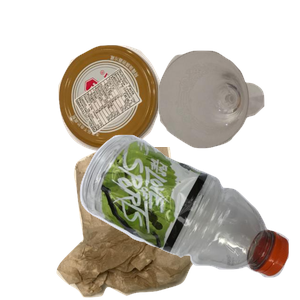glass: (156, 48, 300, 189)
metal: (56, 43, 211, 187)
plastic: (77, 132, 300, 300)
trash: (54, 147, 271, 300)
